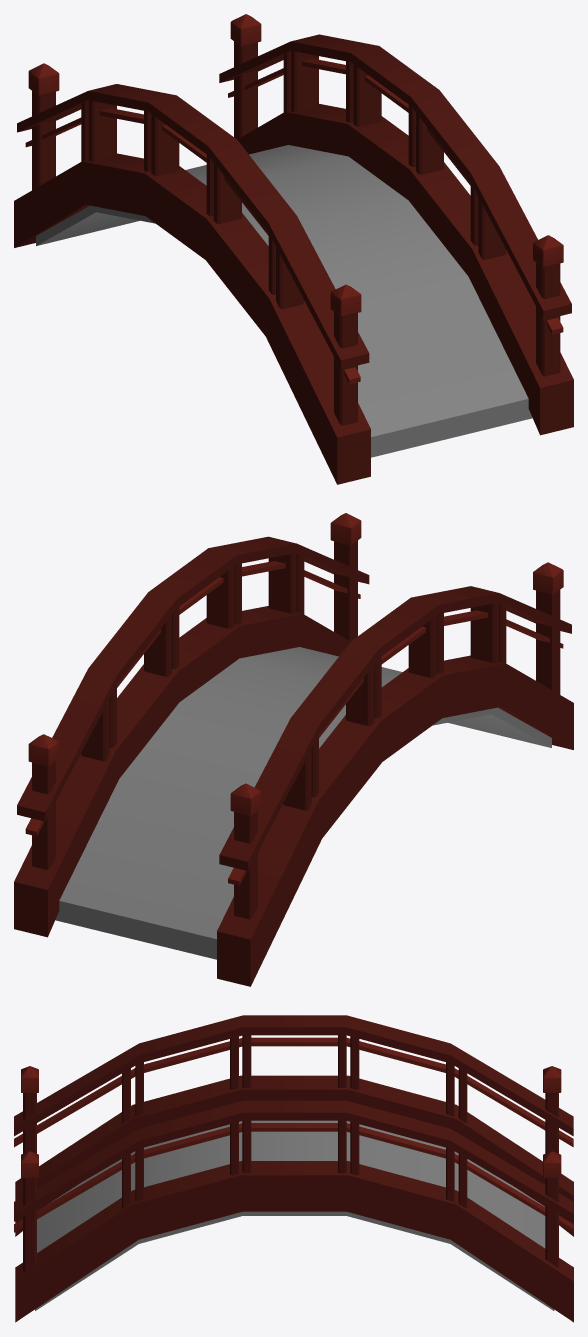
Rendered from bridge1.fbx.
3 views of the same model, one above another, from view 1: azimuth 30°, elevation 25°; view 2: azimuth 150°, elevation 25°; view 3: azimuth 270°, elevation 25° (orthographic). The views are drawn at different scales.
Parts seen in each view (by area): view 1: bridge1; view 2: bridge1; view 3: bridge1.
Part boxes in pixels (<box>): bridge1: <box>14,14,573,484</box>; bridge1: <box>14,513,573,986</box>; bridge1: <box>14,1015,573,1322</box>.
Bounding box in the file's own units: 305 × 297 × 722.
